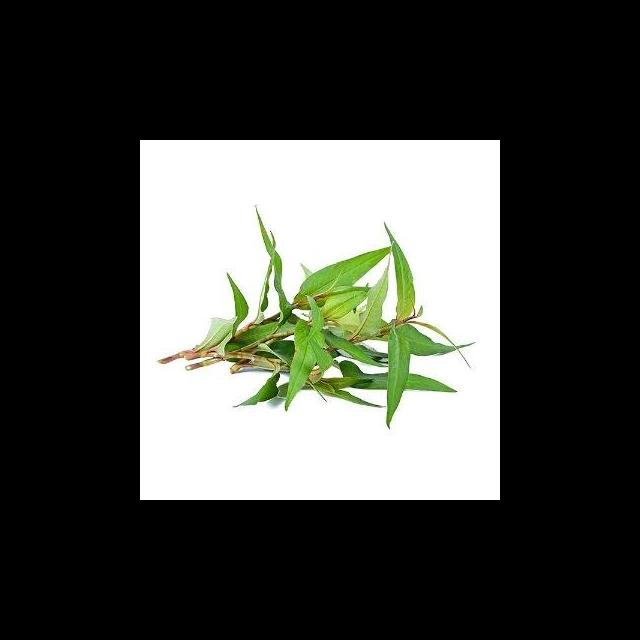rau ram: (152, 200, 478, 431)
